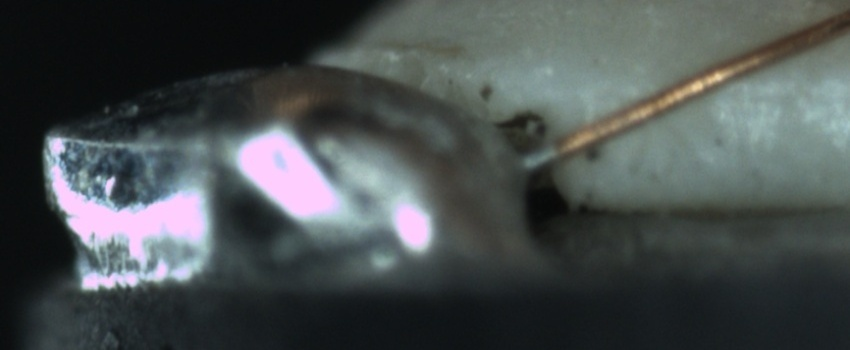TS: (517, 140, 557, 173)
